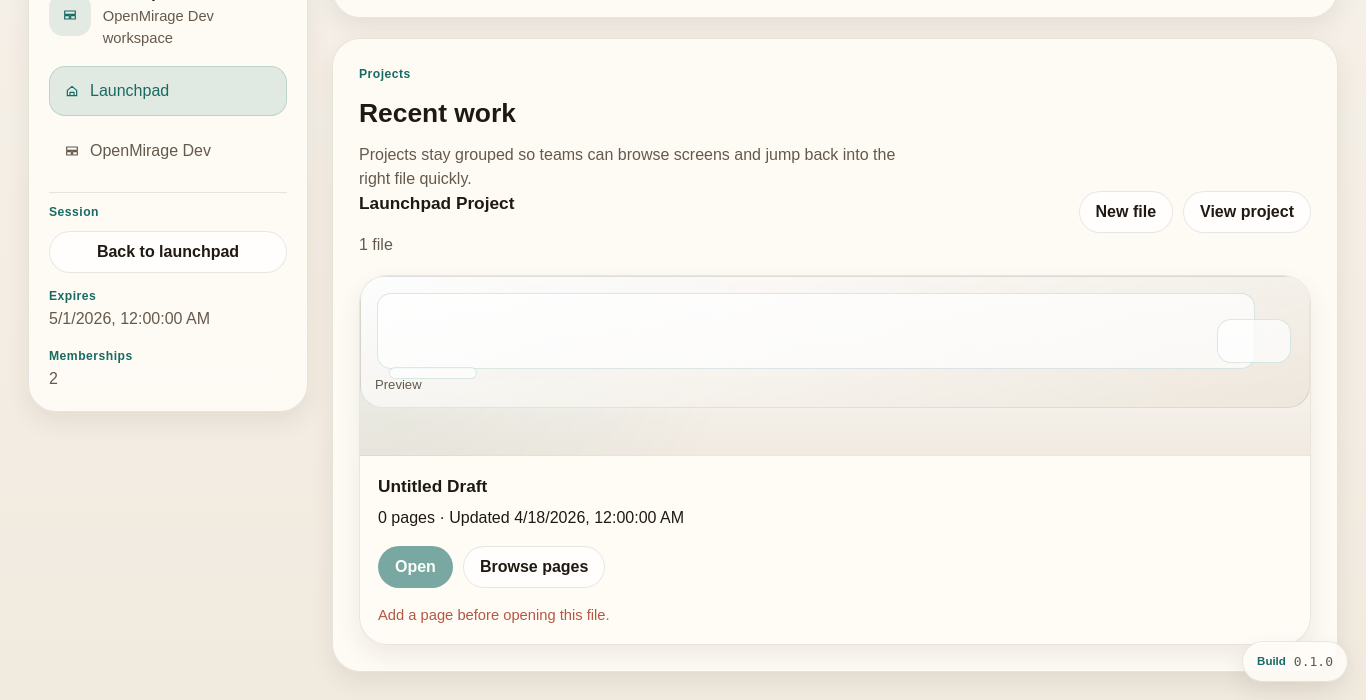
App auth and routing flows › disables direct open when the launchpad file summary has no default page
(page scrolled)
Expected: the text "Untitled Draft" is shown, [378, 476, 487, 496]
Expected: the button "Open" is disabled, [378, 546, 453, 588]
Click the button "Browse pages": coordinates (534, 567) [463, 546, 605, 588]
(page scrolled)
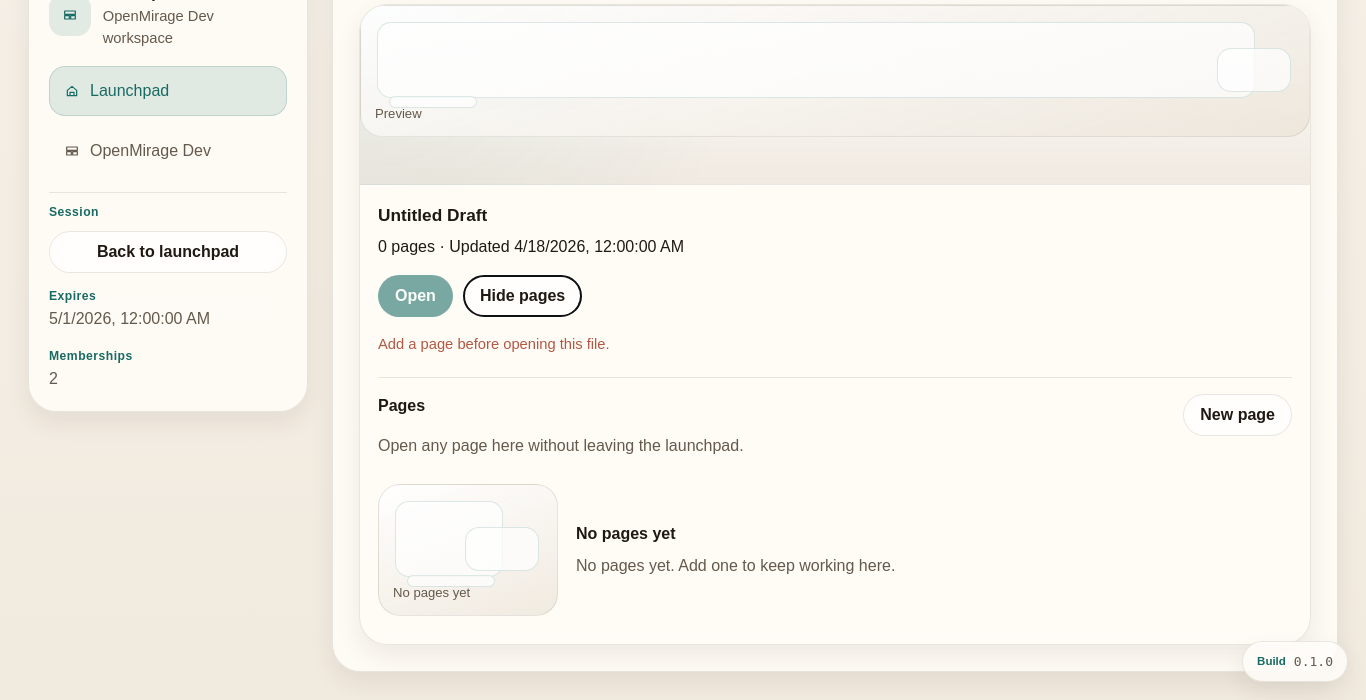
Now the text "No pages yet. Add one to keep working here." is shown, box [576, 557, 895, 574]
